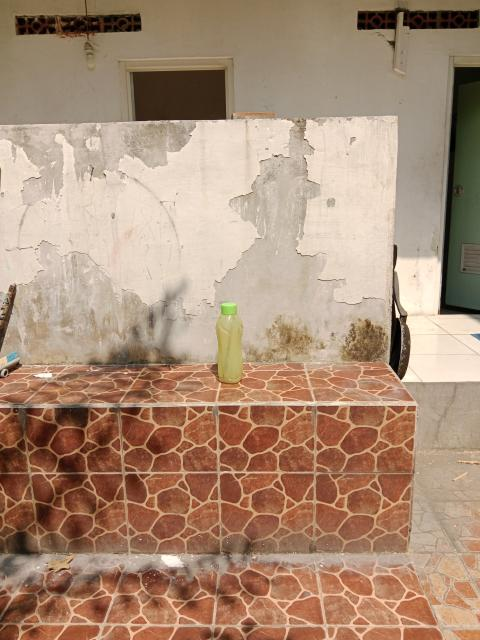botol: (214, 298, 250, 391)
